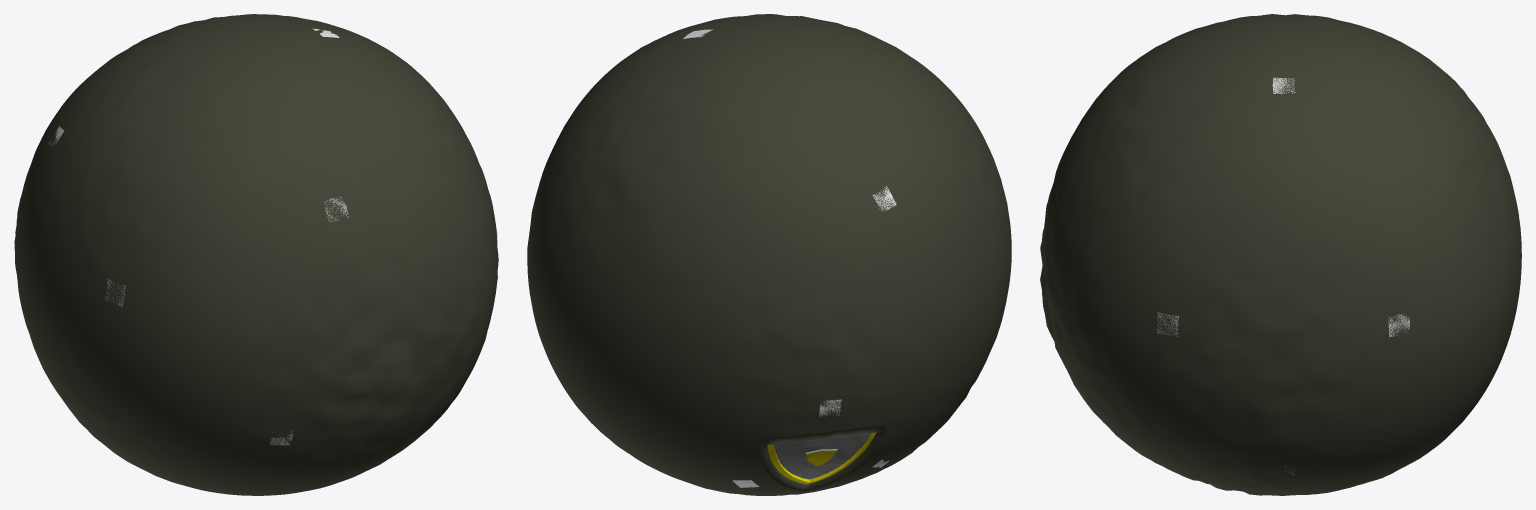
The model's file is Planet1.fbx.
The picture shows the model from 3 angles, left to right: view 1: azimuth 30°, elevation 25°; view 2: azimuth 150°, elevation 25°; view 3: azimuth 270°, elevation 25°; orthographic projection.
Parts seen in each view (by area): view 1: Cube; view 2: Cube, Door; view 3: Cube.
Part boxes in pixels (<box>): Cube: <box>14,14,498,495</box>; Cube: <box>527,14,1011,495</box>; Door: <box>767,432,876,484</box>; Cube: <box>1040,14,1521,495</box>.
Size of the model in its own units: 836 by 838 by 848.
3 materials, 1 textured.
